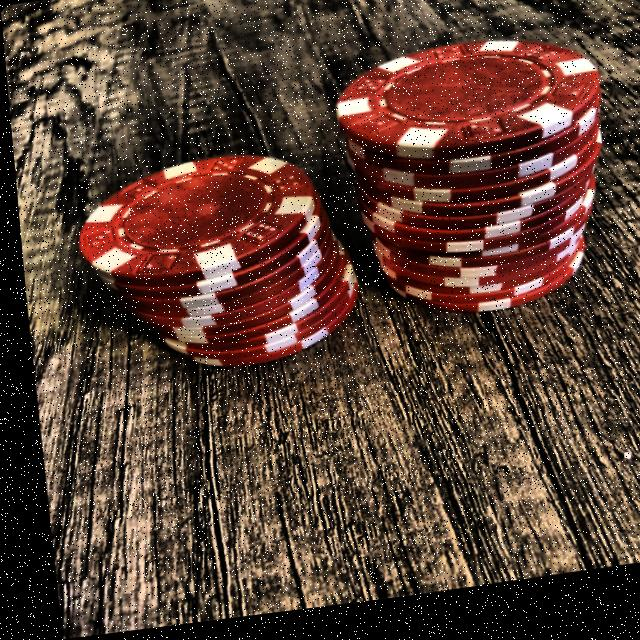Chip: (302, 16, 636, 346), (62, 111, 375, 413)
